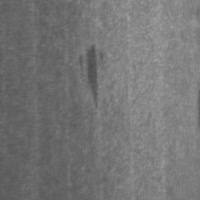inclusion: (74, 40, 108, 114)
